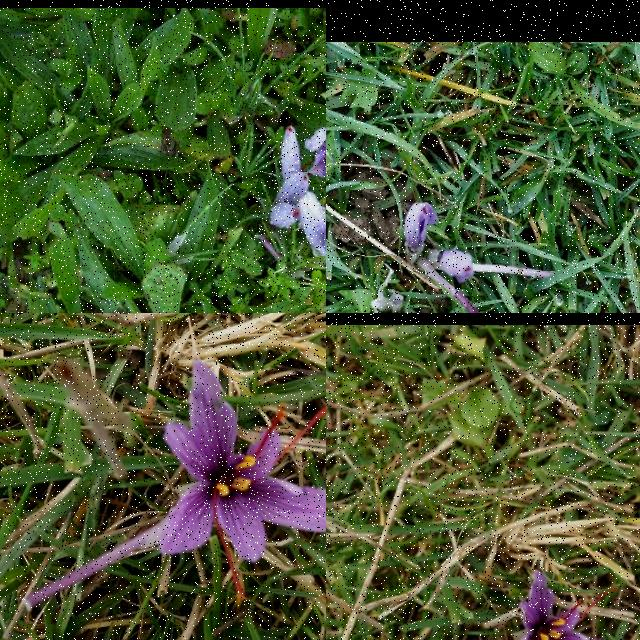flower: (156, 355, 326, 602), (515, 570, 614, 640), (306, 128, 326, 230), (404, 202, 438, 252), (441, 250, 474, 282)
overlap: (269, 127, 326, 265)
